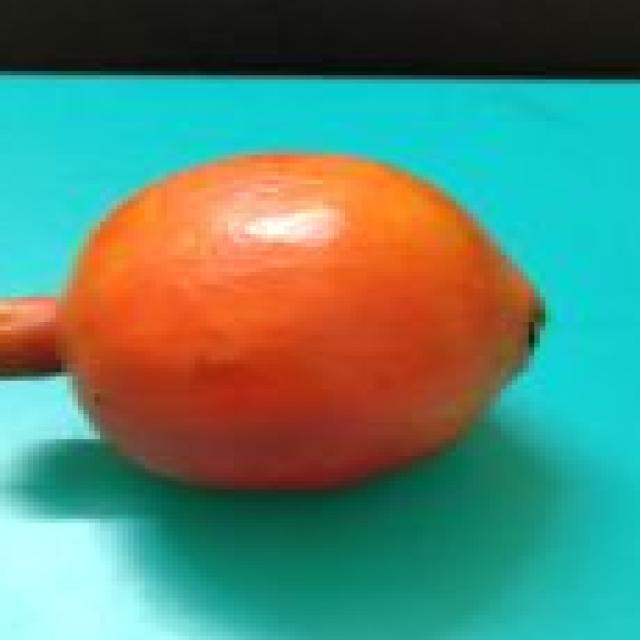Good_Pomegranate-50-60-days: (0, 155, 545, 498)
